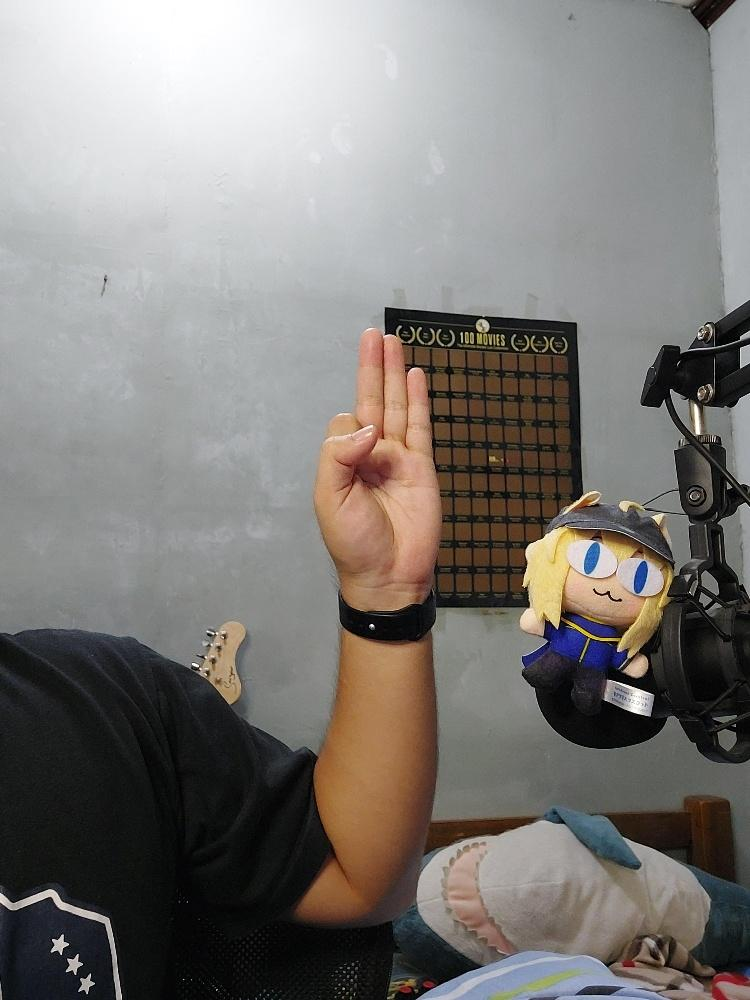f: (316, 325, 443, 585)
